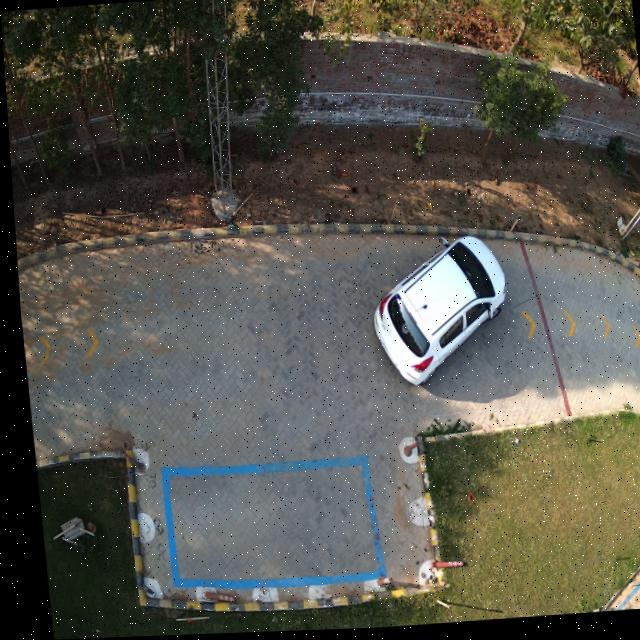car: (368, 239, 503, 388)
